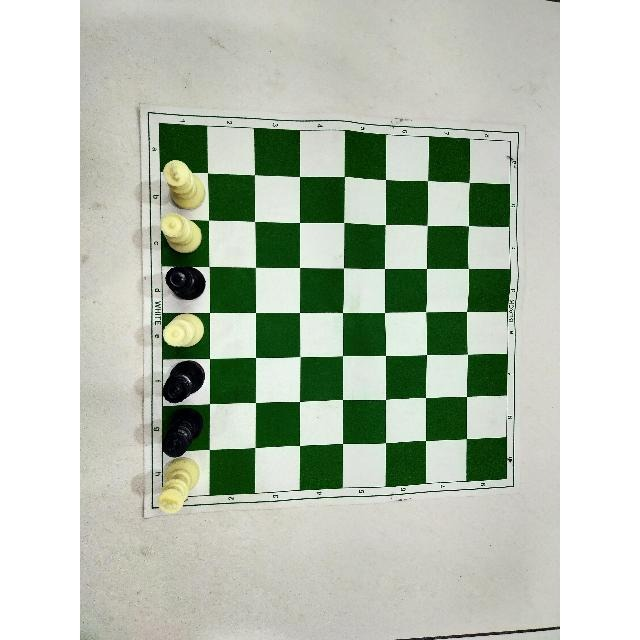black-king: (159, 405, 205, 459)
black-queen: (159, 356, 207, 405), (162, 263, 207, 303)
white-king: (155, 453, 202, 516), (160, 157, 209, 213)
white-queen: (157, 210, 202, 257), (158, 309, 207, 351)
